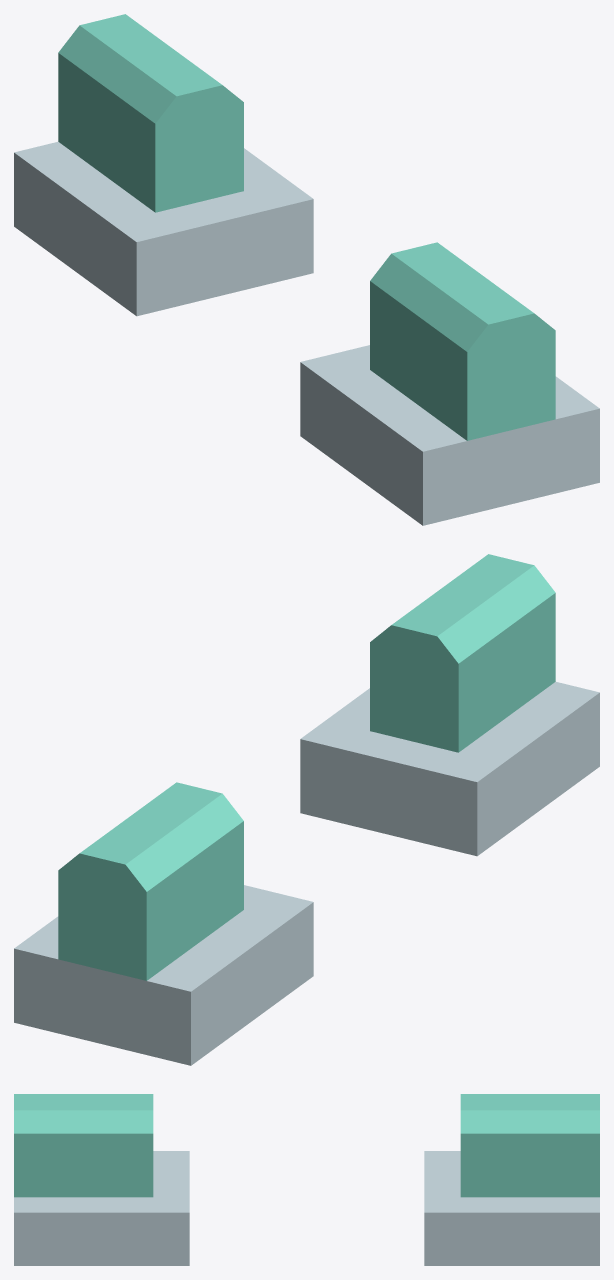
File: hedgeGate.glb
The picture shows the model from 3 angles, top to bottom: view 1: azimuth 30°, elevation 25°; view 2: azimuth 150°, elevation 25°; view 3: azimuth 270°, elevation 25°; orthographic projection. The views are drawn at different scales.
Visible parts, largest first — view 1: hedgeGate; view 2: hedgeGate; view 3: hedgeGate.
Part boxes in pixels (x1,y1,x2,y2): hedgeGate: (14, 14, 599, 525); hedgeGate: (14, 554, 599, 1065); hedgeGate: (14, 1094, 599, 1265).
Size of the model in its own units: 0.25 by 0.25 by 1.
